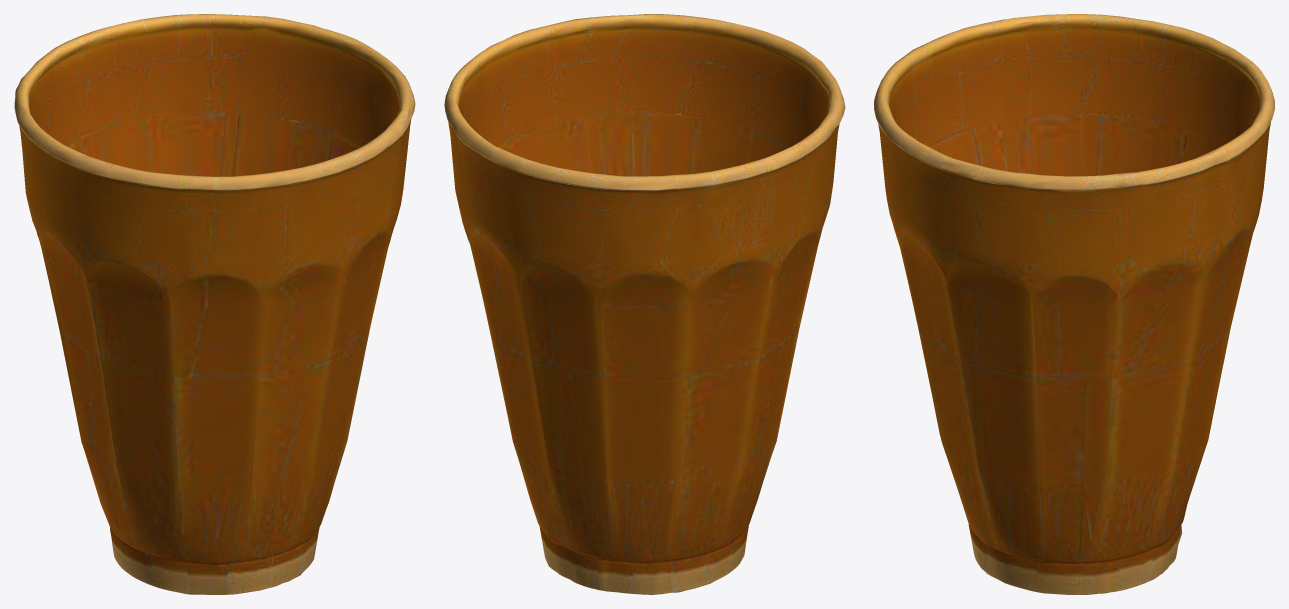
The model's file is Meshy_AI_ochre_tumbler_1109192259_texture.glb.
The picture shows the model from 3 angles, left to right: view 1: azimuth 30°, elevation 25°; view 2: azimuth 150°, elevation 25°; view 3: azimuth 270°, elevation 25°; orthographic projection.
Parts seen in each view (by area): view 1: geometry_0; view 2: geometry_0; view 3: geometry_0.
Part boxes in pixels (x1,y1,x2,y2): geometry_0: (14, 14, 415, 594); geometry_0: (444, 14, 845, 594); geometry_0: (874, 14, 1274, 594).
Size of the model in its own units: 0.75 by 0.9507 by 0.7539.
1 material, 1 textured.
